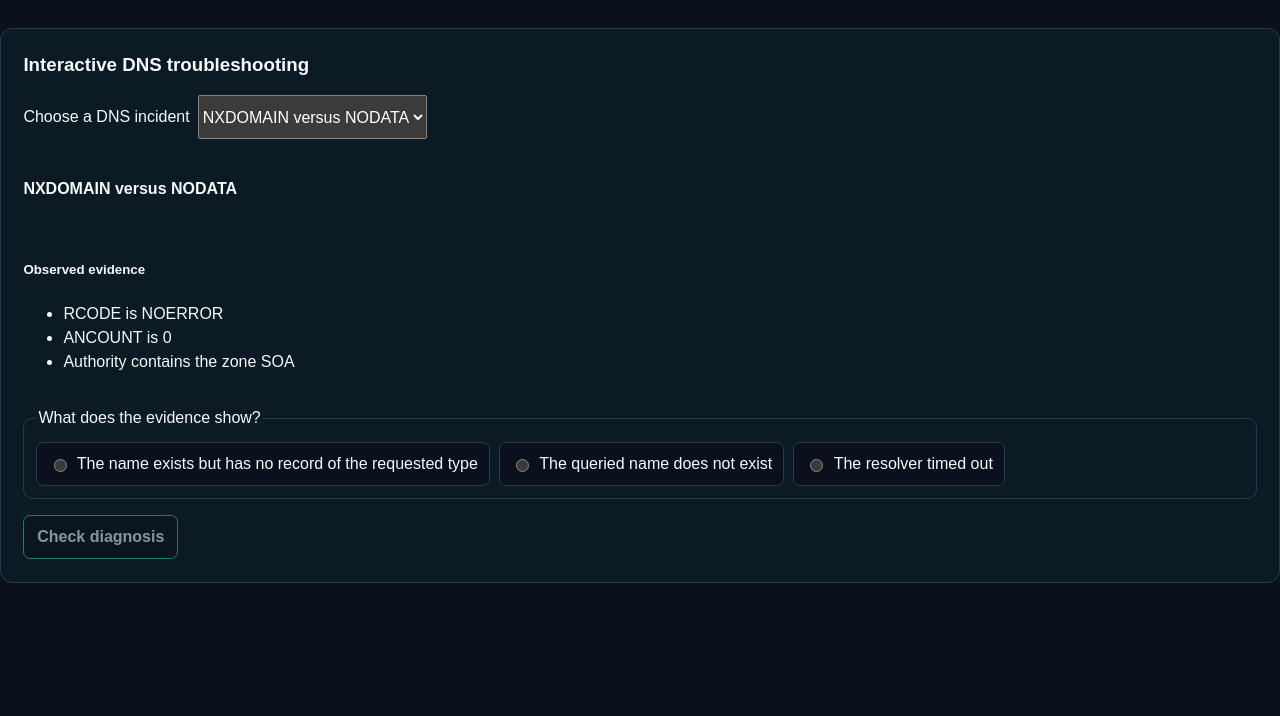
Test case: DnsTroubleshootingPlayer › records an incorrect account answer as an attempt and explains it immediately
This screenshot has width=1280, height=716.
Step 1. Select "Recursive resolver timeout" in the dropdown labelled "Choose a DNS incident" → {"x": 312, "y": 118}, box [198,96,427,140]
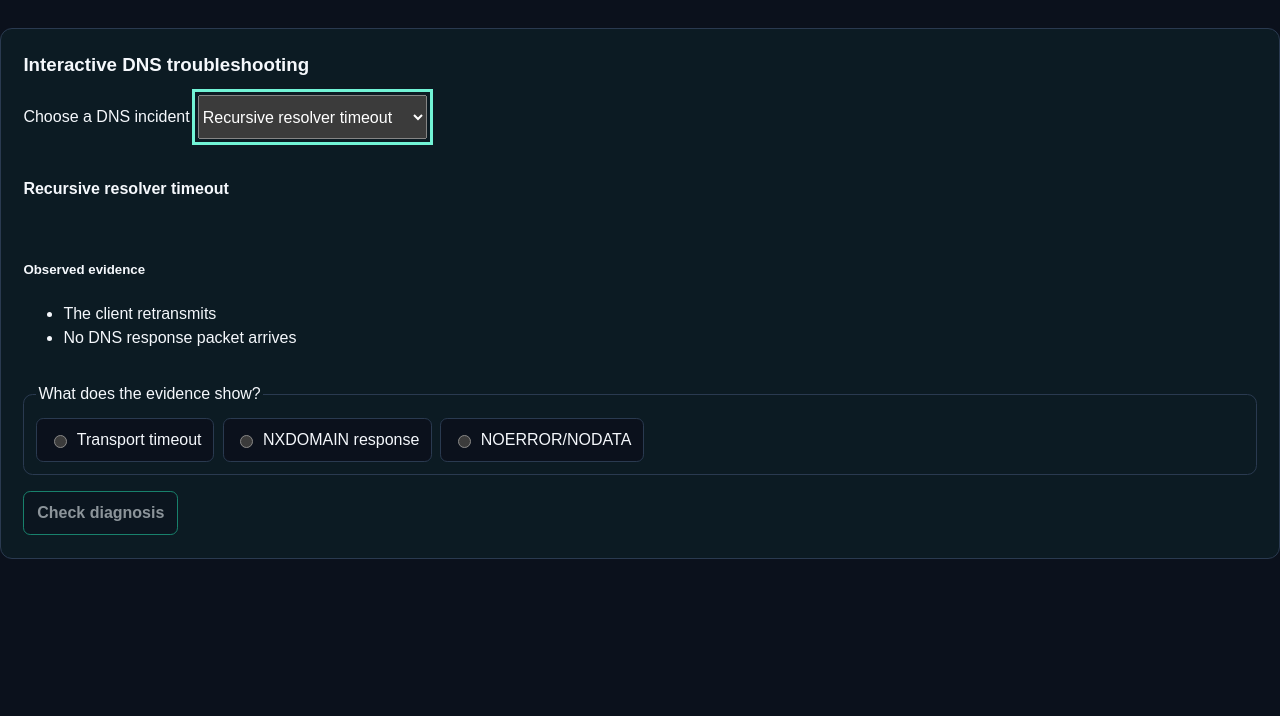
Step 2. Click the radio button labelled "NXDOMAIN response" → {"x": 246, "y": 442}, box [240,435,253,448]
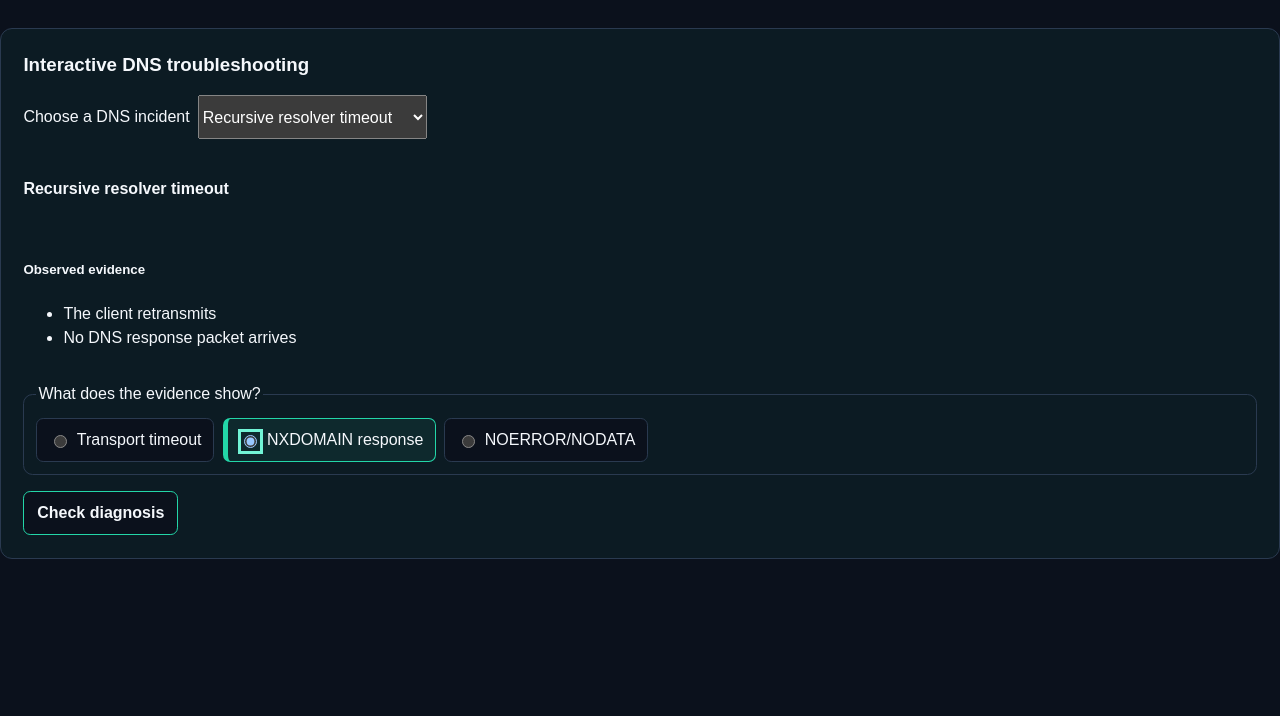
Step 3. Click the button "Check diagnosis" → {"x": 101, "y": 513}, box [23,491,178,535]
(page scrolled)
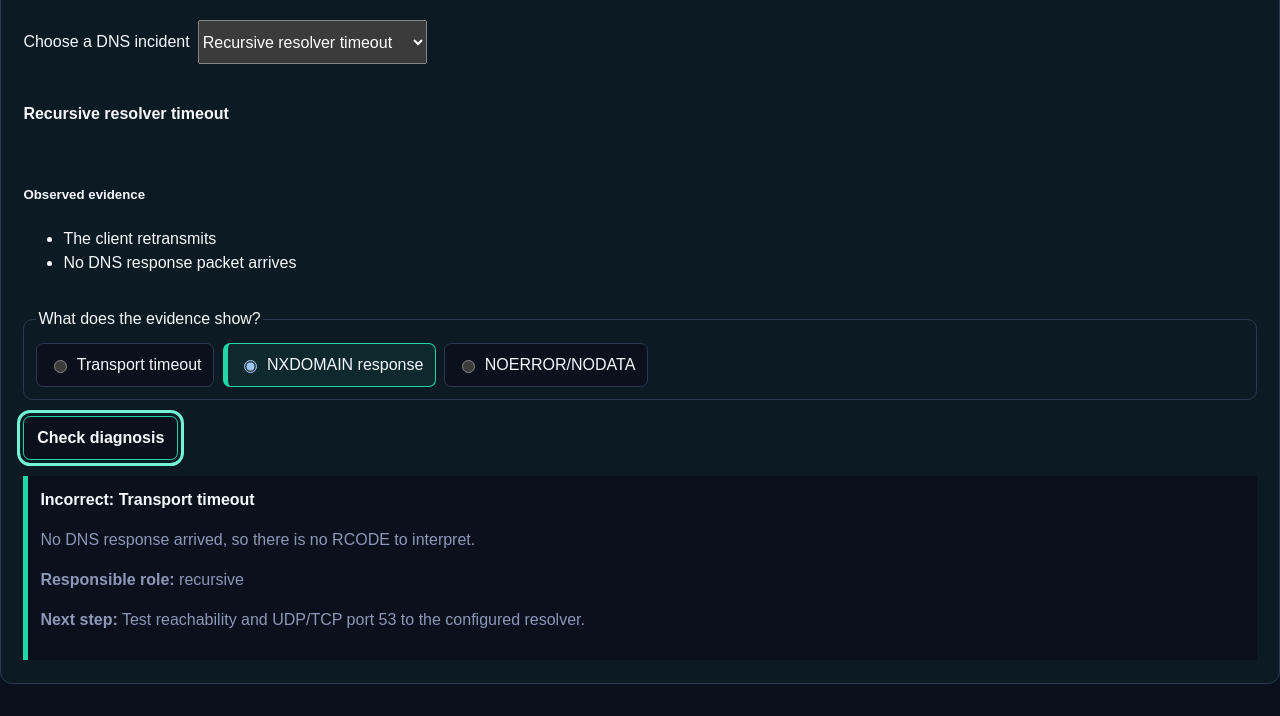
Now the message shows "Incorrect", box [40,491,109,508]
Now the message shows "No DNS response", box [40,531,475,548]
Now the message shows "next step", box [40,611,118,628]
